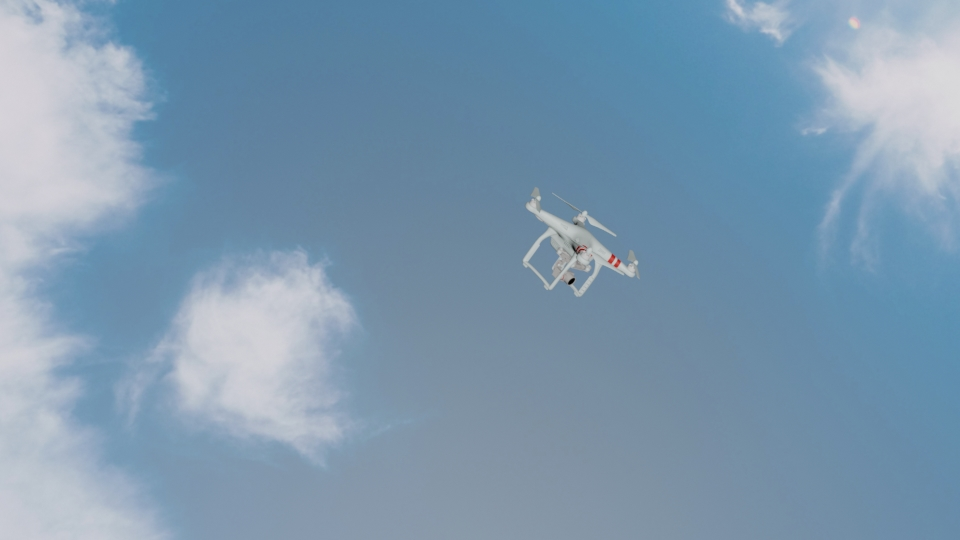drone: (515, 186, 645, 295)
